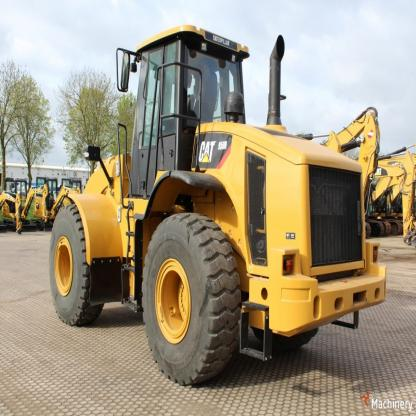bull_dozer/loader/grader: (47, 22, 387, 394)
